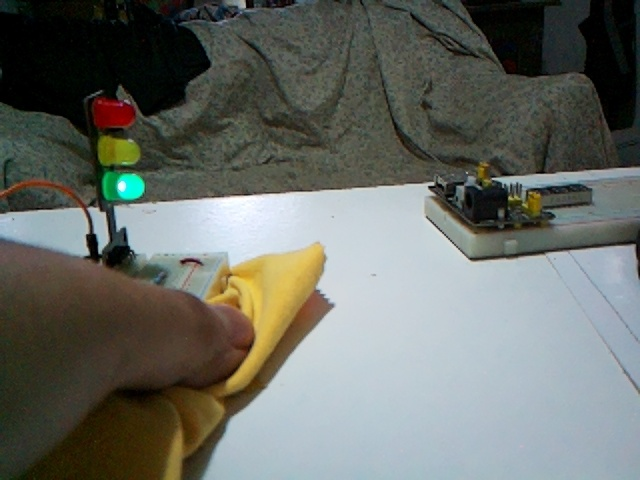traffic_light_green: (83, 90, 145, 266)
